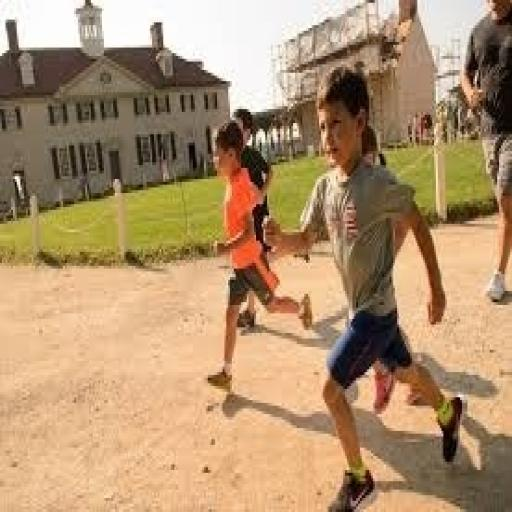running: (262, 62, 466, 509)
